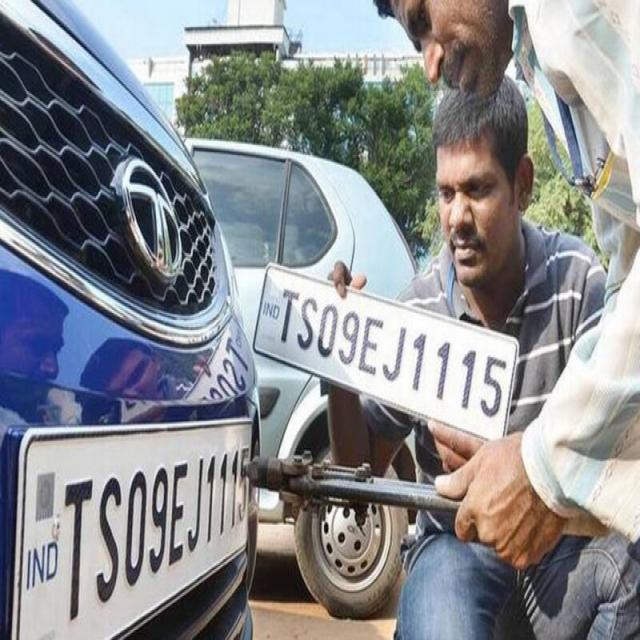number_plate: (9, 431, 253, 636), (278, 274, 511, 436)
